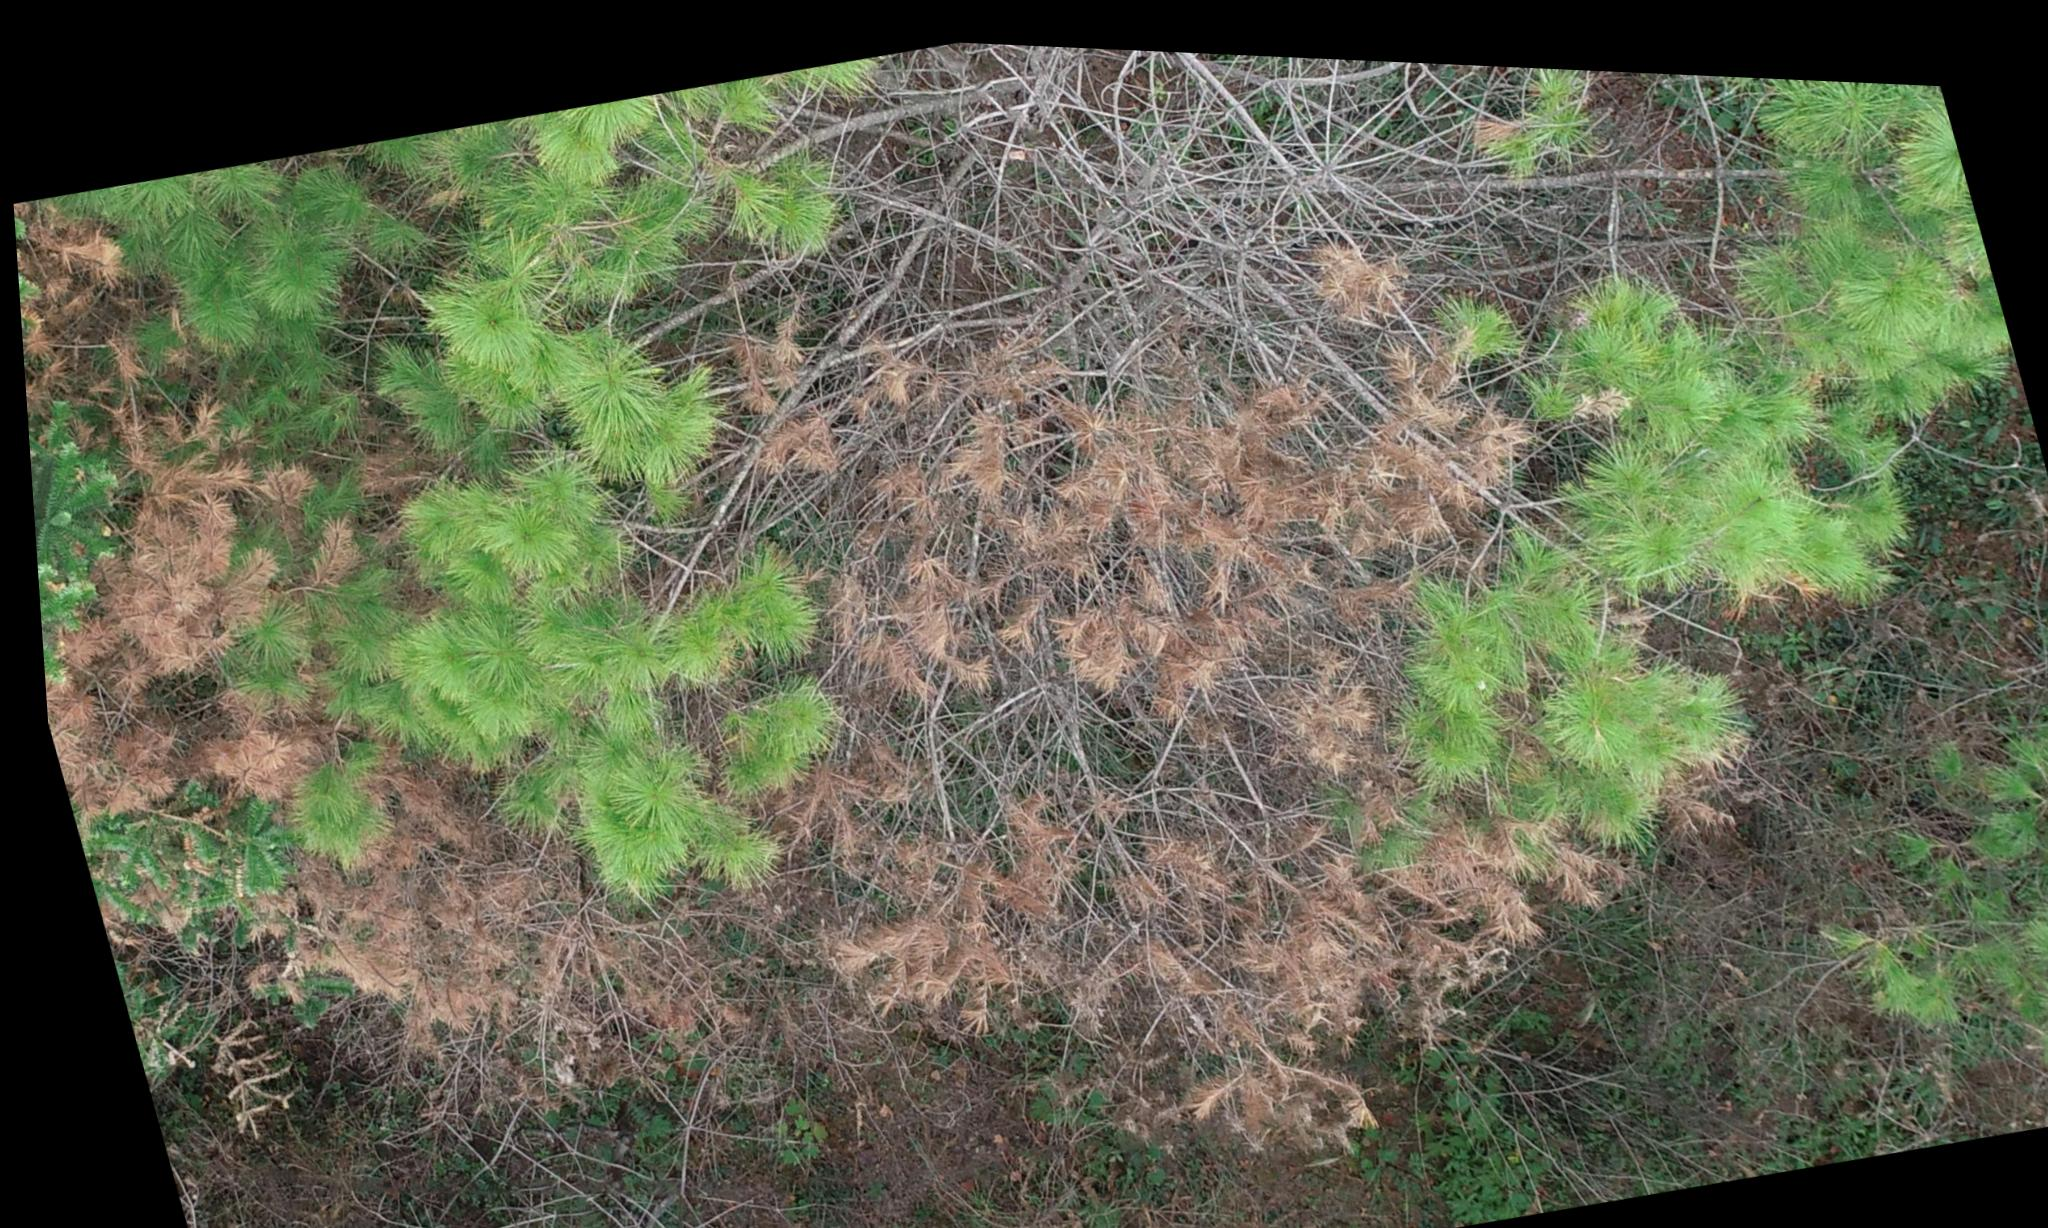dead: (779, 28, 1896, 459)
heavy: (677, 263, 1916, 1228), (15, 288, 729, 1225)
